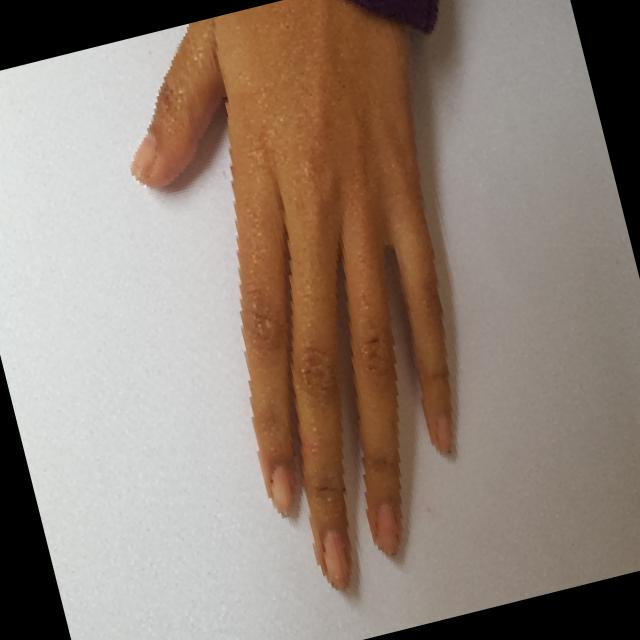Nail: (322, 529, 349, 589), (374, 503, 401, 554), (130, 132, 156, 181), (270, 465, 292, 515), (434, 413, 451, 452)
